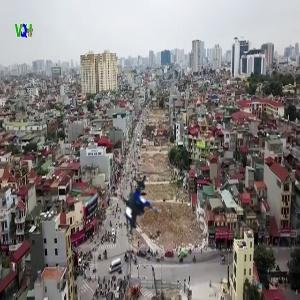drone: (107, 176, 176, 245)
